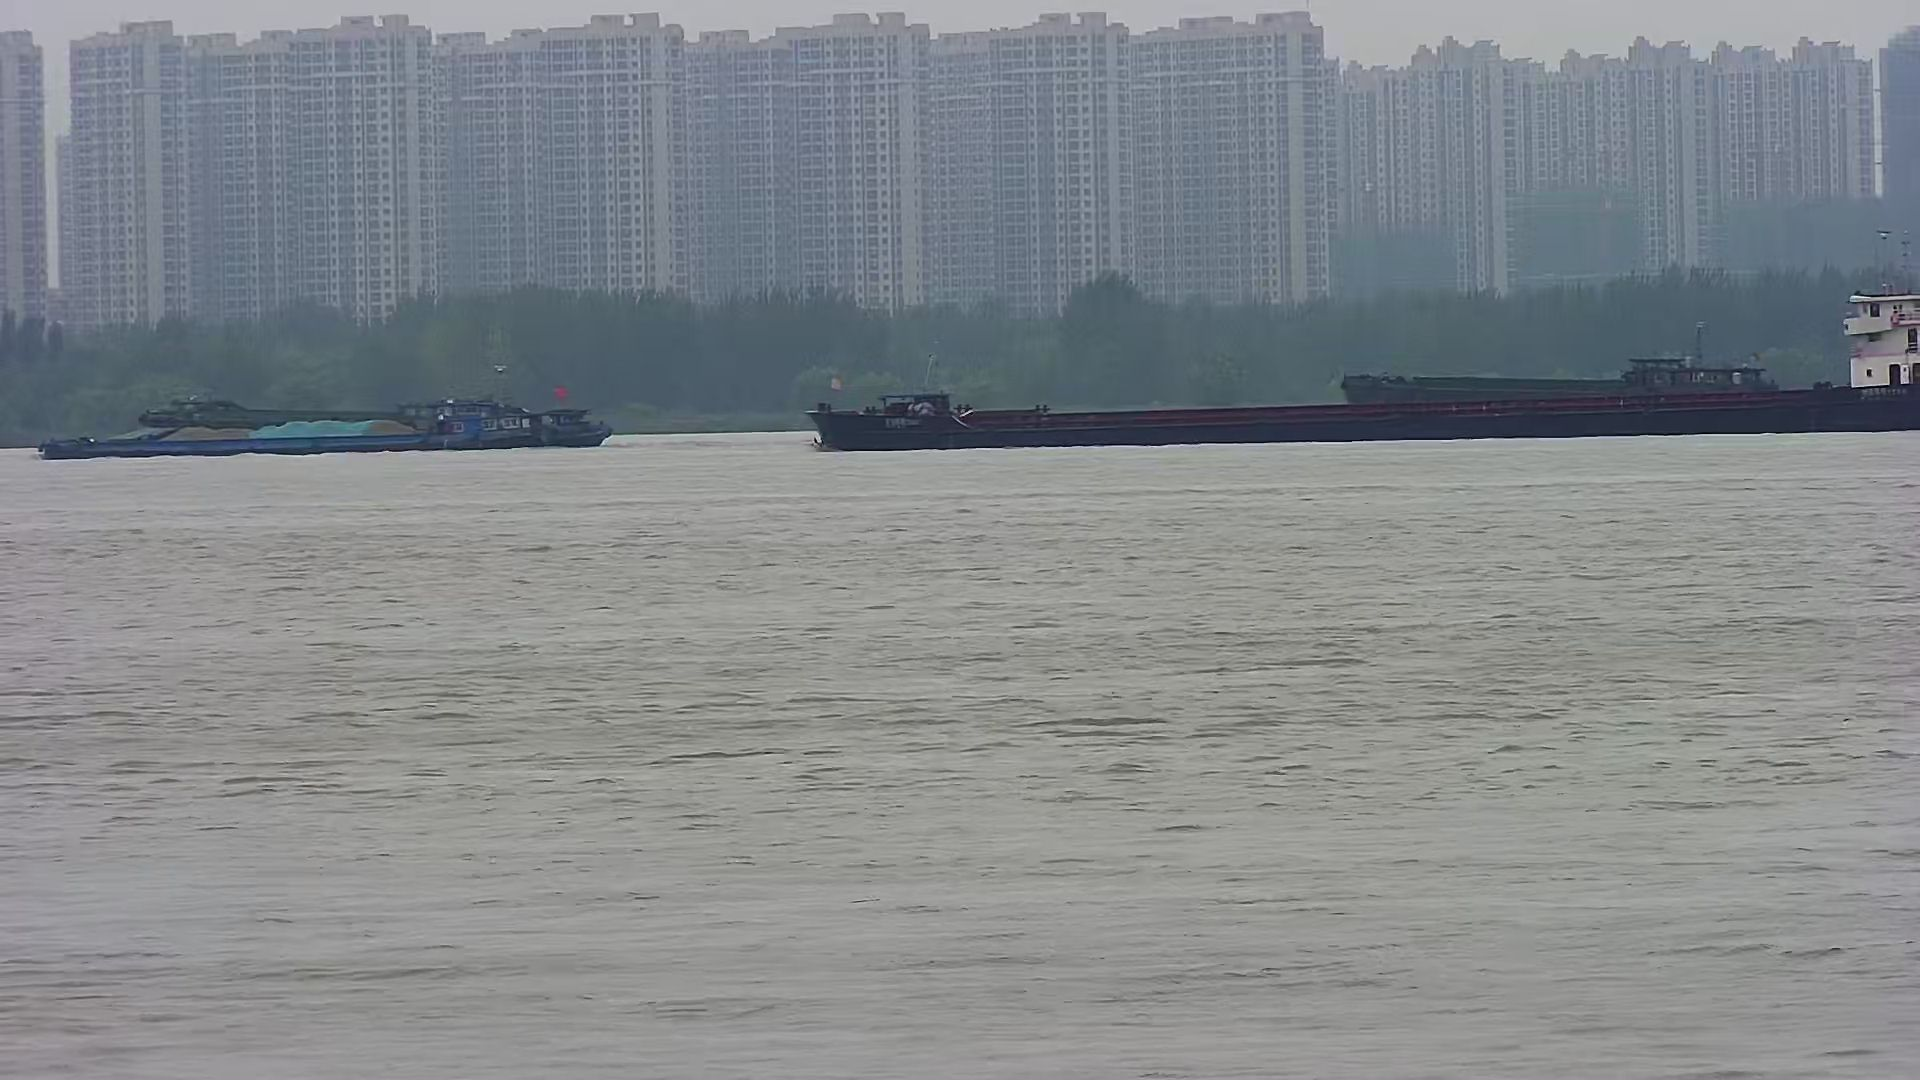ship: (808, 237, 1920, 450), (1342, 331, 1789, 431), (37, 396, 616, 460)
